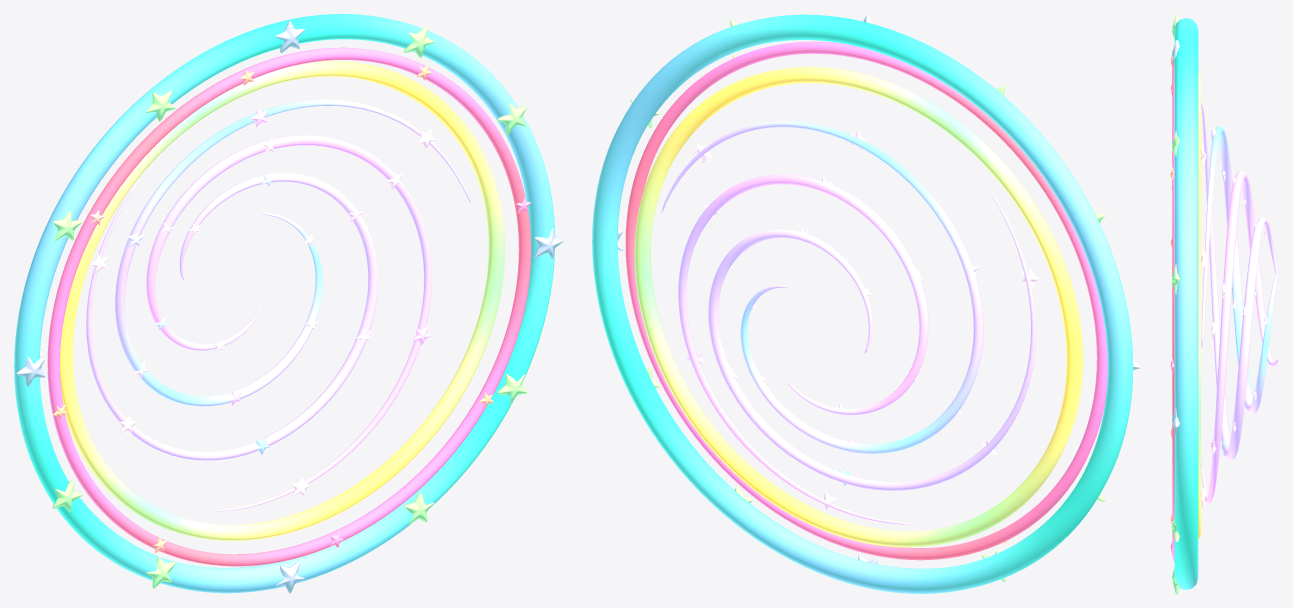
The model's file is portal-cosmos.glb.
3 renders of one model, left to right at view 1: azimuth 30°, elevation 25°; view 2: azimuth 150°, elevation 25°; view 3: azimuth 270°, elevation 25°, orthographic. The views are drawn at different scales.
Visible parts, largest first — view 1: Aro_00, Remolino_estelar, Aro_02, Aro_01; view 2: Aro_00, Remolino_estelar, Aro_02, Aro_01; view 3: Aro_00, Remolino_estelar, Aro_01, Aro_02.
Boxes of the visible parts, x1,y1,x2,y2 form: Aro_00: (14, 14, 563, 593); Remolino_estelar: (86, 99, 470, 511); Aro_02: (60, 60, 504, 540); Aro_01: (47, 47, 531, 566); Aro_00: (592, 14, 1141, 593); Remolino_estelar: (660, 121, 1039, 524); Aro_02: (634, 67, 1082, 547); Aro_01: (625, 41, 1107, 560); Aro_00: (1171, 14, 1198, 593); Remolino_estelar: (1201, 102, 1278, 507); Aro_01: (1170, 50, 1174, 559); Aro_02: (1198, 68, 1200, 539).
Size of the model in its own units: 32.14 by 32.14 by 5.96.
